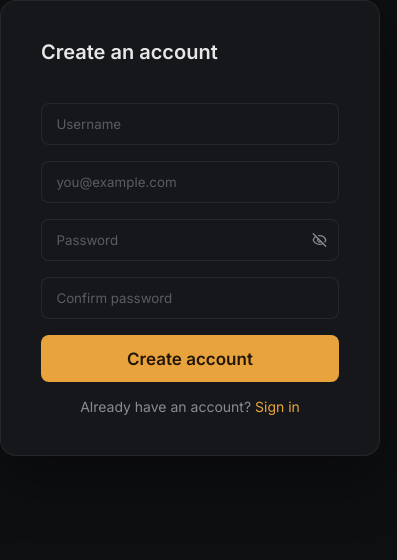
Test: RegisterForm › shows a fallback error when the API returns no message
The image size is (397, 560).
Type "alice" into the field with placeholder "Username".
click(190, 124); type("alice")  # box [41,103,339,145]
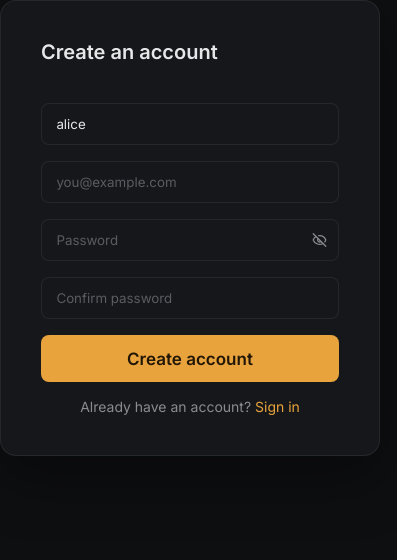
Type "alice@example.com" into the field with placeholder "you@example.com".
click(190, 182); type("alice@example.com")  # box [41,161,339,203]
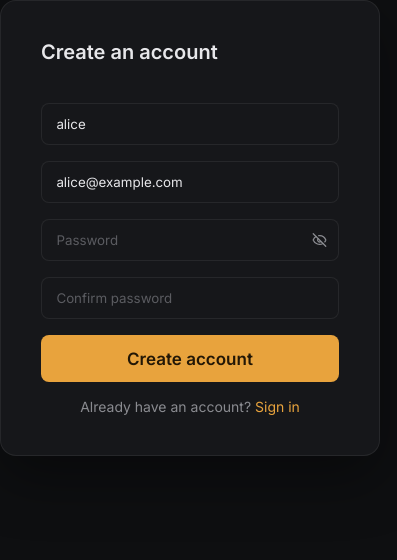
Type "Password123!" into the password field with placeholder "Password".
click(190, 240); type("Password123!")  # box [41,219,339,261]
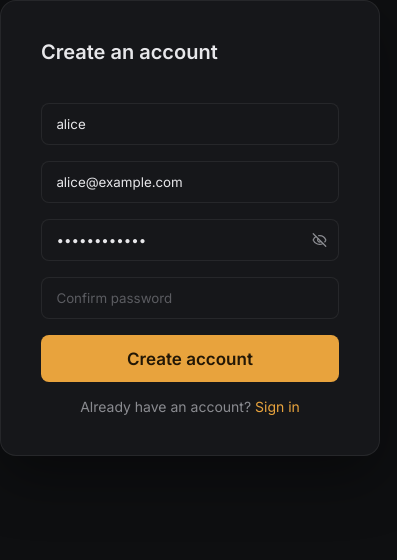
Type "Password123!" into the password field with placeholder "Confirm password".
click(190, 298); type("Password123!")  # box [41,277,339,319]
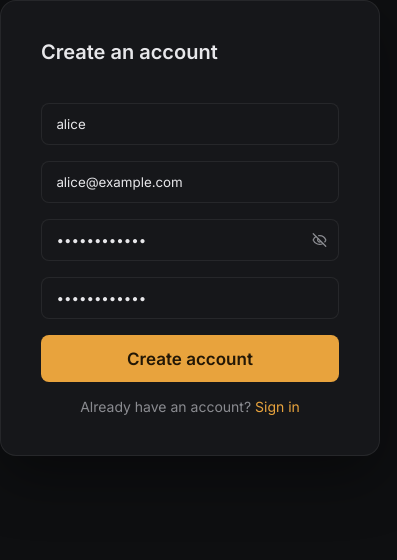
Submit the form, box [41,41,339,415]
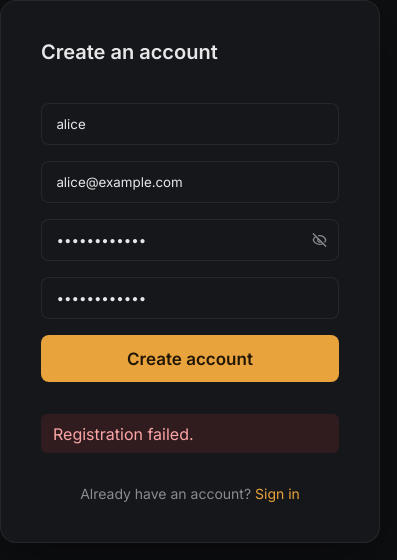
expect the message "Registration failed." is shown: met, box [41,414,339,453]
